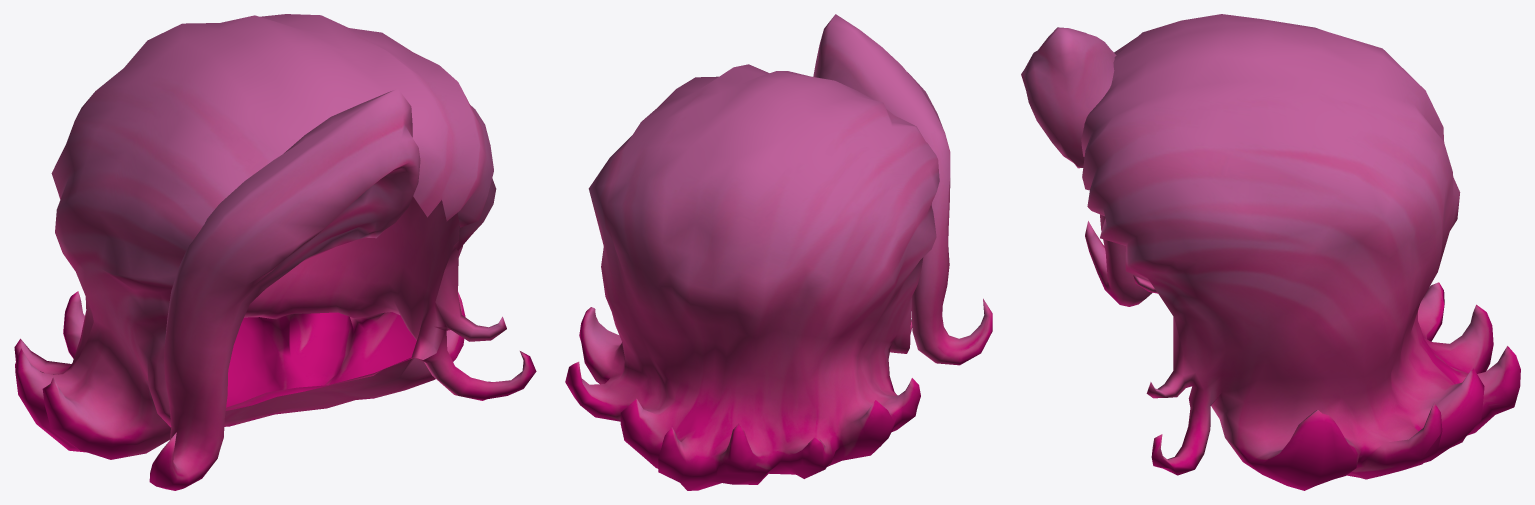
Rendered from Hair_03.fbx.
The picture shows the model from 3 angles, left to right: view 1: azimuth 30°, elevation 25°; view 2: azimuth 150°, elevation 25°; view 3: azimuth 270°, elevation 25°; orthographic projection. The views are drawn at different scales.
Visible parts, largest first — view 1: Hair_03; view 2: Hair_03; view 3: Hair_03.
Part boxes in pixels (box(x1,y1,x2,y2)): Hair_03: box(14, 14, 536, 490); Hair_03: box(565, 14, 992, 490); Hair_03: box(1021, 14, 1520, 490).
Size of the model in its own units: 6.81 by 7.13 by 7.46.
